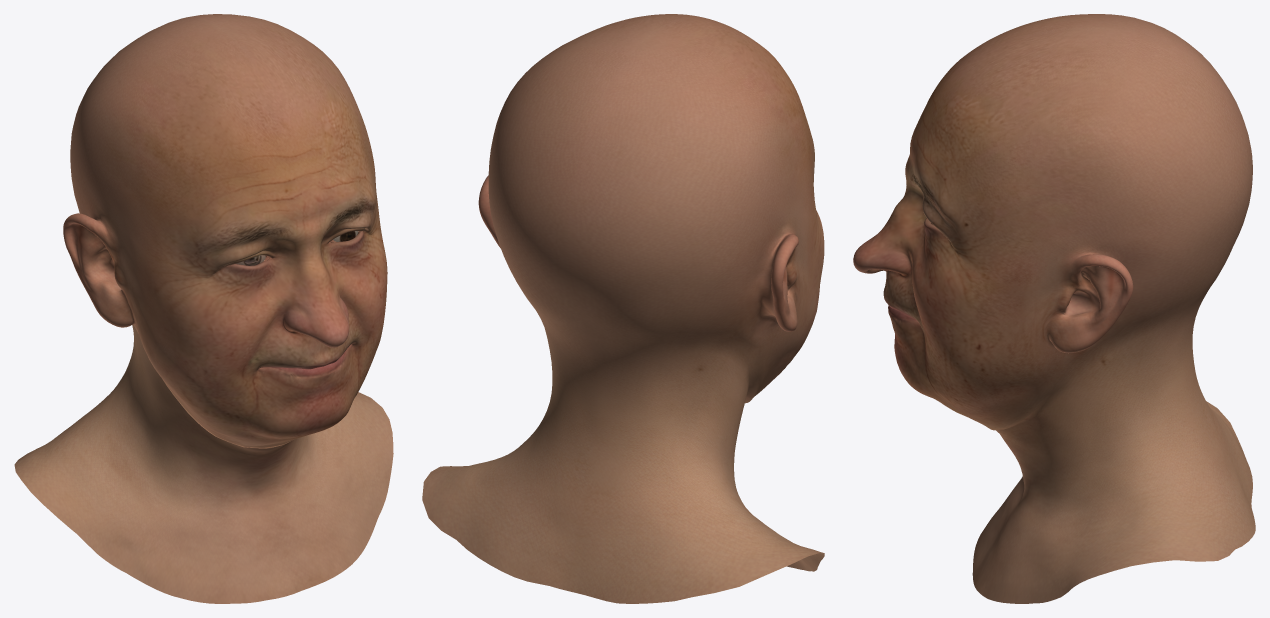
3 renders of one model, left to right at view 1: azimuth 30°, elevation 25°; view 2: azimuth 150°, elevation 25°; view 3: azimuth 270°, elevation 25°, orthographic. The views are drawn at different scales.
Parts seen in each view (by area): view 1: Registered head; view 2: Registered head; view 3: Registered head.
Boxes of the visible parts, left/top/right/bottom form: Registered head: left=14, top=14, right=393, bottom=603; Registered head: left=422, top=14, right=824, bottom=603; Registered head: left=853, top=14, right=1255, bottom=603.
Size of the model in its own units: 1.28 by 1.82 by 1.23.
Materials: 3 (3 with a texture image).
